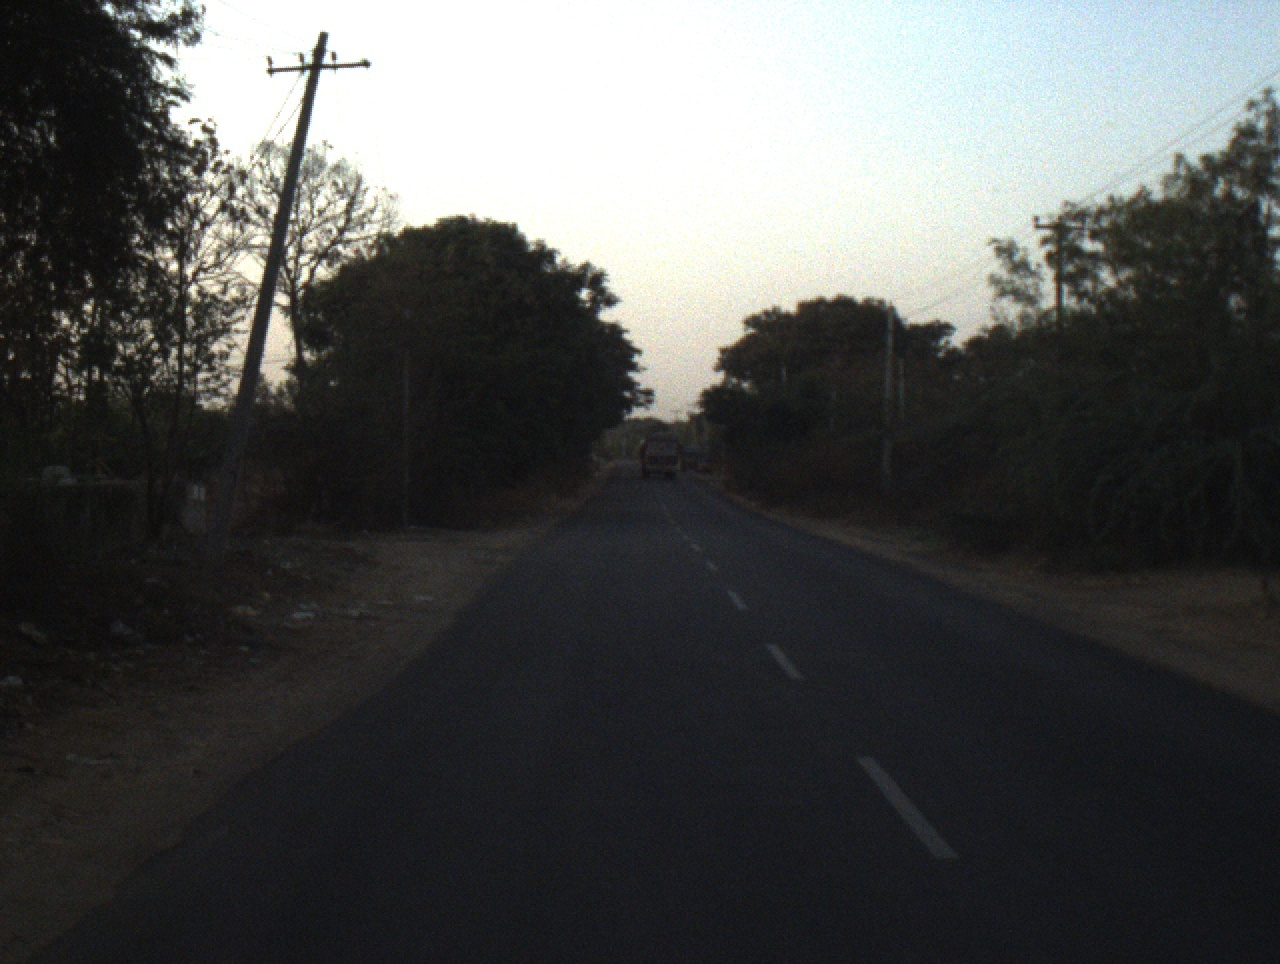truck: (636, 428, 685, 485)
